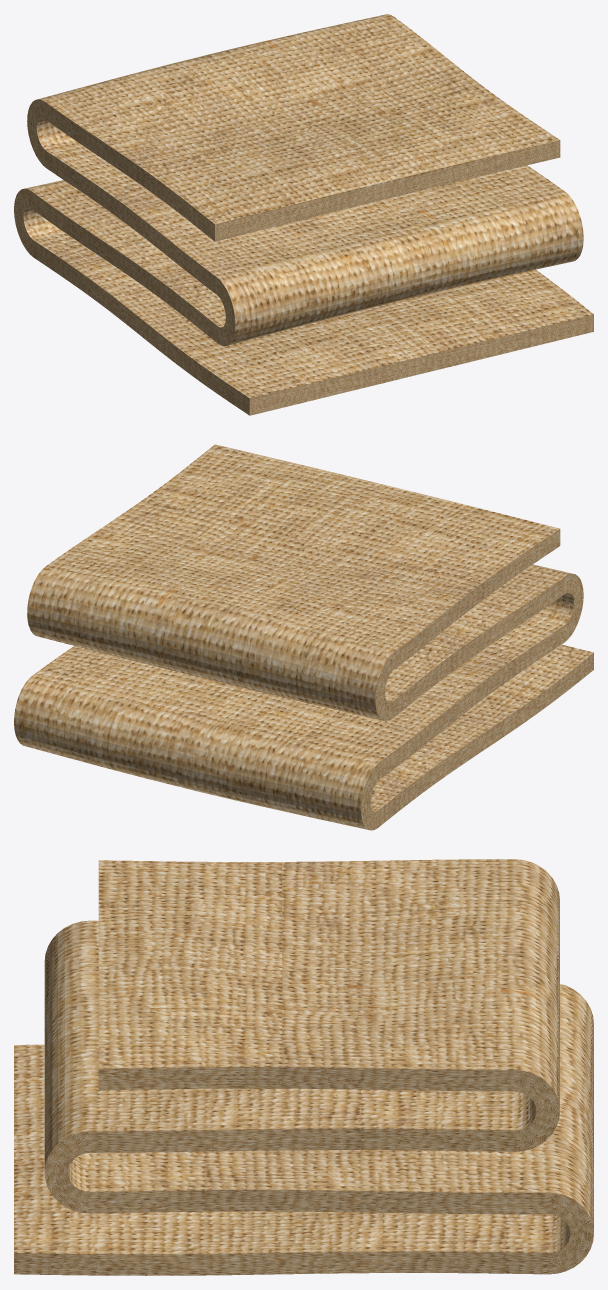
Rendered from fabric.obj.
The picture shows the model from 3 angles, top to bottom: view 1: azimuth 30°, elevation 25°; view 2: azimuth 150°, elevation 25°; view 3: azimuth 270°, elevation 25°; orthographic projection. The views are drawn at different scales.
Visible parts, largest first — view 1: sheet; view 2: sheet; view 3: sheet.
Boxes of the visible parts, box(x1,y1,x2,y2) form: sheet: box(14, 14, 593, 415); sheet: box(14, 444, 593, 830); sheet: box(14, 859, 593, 1275).
Bounding box in the file's own units: 110 × 52.38 × 128.
Materials: 1 (1 with a texture image).
